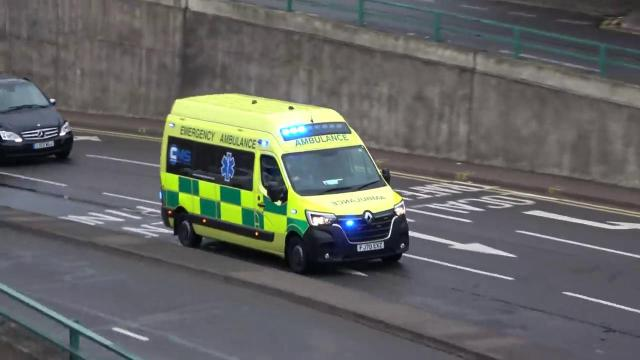police: (164, 92, 411, 281)
